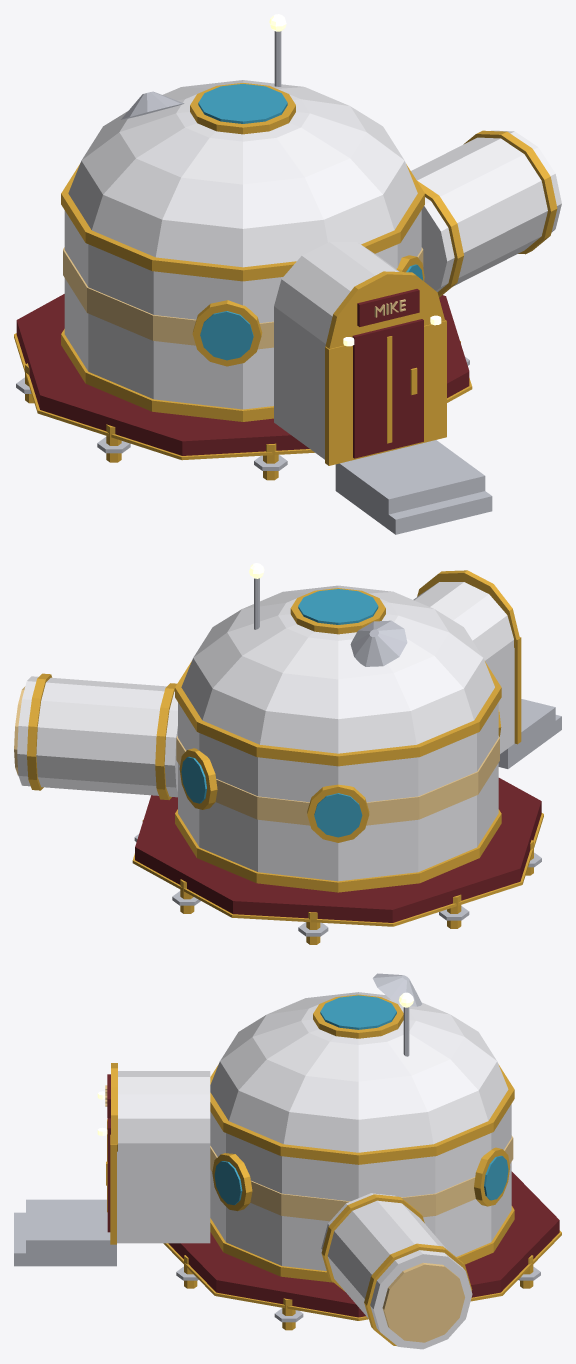
The model's file is casa-do-mike.glb.
3 views of the same model, one above another, from view 1: azimuth 30°, elevation 25°; view 2: azimuth 150°, elevation 25°; view 3: azimuth 270°, elevation 25° (orthographic). The views are drawn at different scales.
Parts seen in each view (by area): view 1: casa-do-mike; view 2: casa-do-mike; view 3: casa-do-mike.
Part boxes in pixels (<box>): casa-do-mike: <box>14,14,561,534</box>; casa-do-mike: <box>14,563,561,944</box>; casa-do-mike: <box>14,973,561,1349</box>.
Size of the model in its own units: 16.58 by 10.03 by 17.17.
